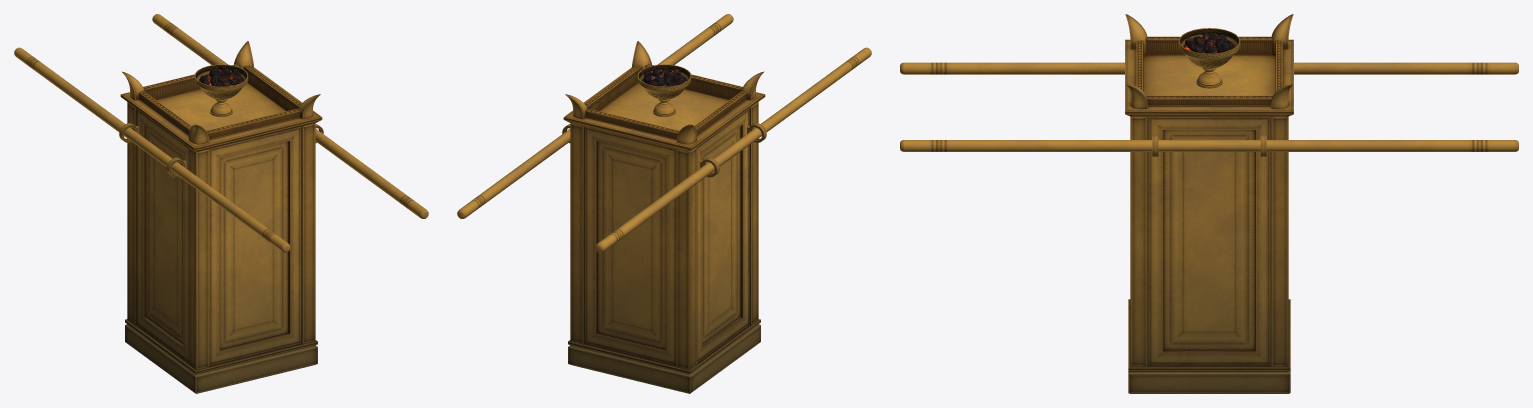
File: SM_AltarIncense.glb
3 renders of one model, left to right at view 1: azimuth 30°, elevation 25°; view 2: azimuth 150°, elevation 25°; view 3: azimuth 270°, elevation 25°, orthographic. The views are drawn at different scales.
Visible parts, largest first — view 1: SM_Altar_Structure, SM_Altar_Censer; view 2: SM_Altar_Structure, SM_Altar_Censer; view 3: SM_Altar_Structure, SM_Altar_Censer.
Boxes of the visible parts, x1,y1,x2,y2 form: SM_Altar_Structure: (14,14,428,393); SM_Altar_Censer: (194,64,248,116); SM_Altar_Structure: (457,14,871,393); SM_Altar_Censer: (637,64,691,116); SM_Altar_Structure: (900,14,1518,393); SM_Altar_Censer: (1178,28,1240,88).
Bounding box in the file's own units: 0.5967 × 1.04 × 1.8.
Materials: 2 (2 with a texture image).
